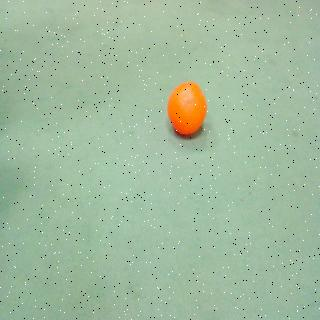orange: (164, 79, 210, 143)
